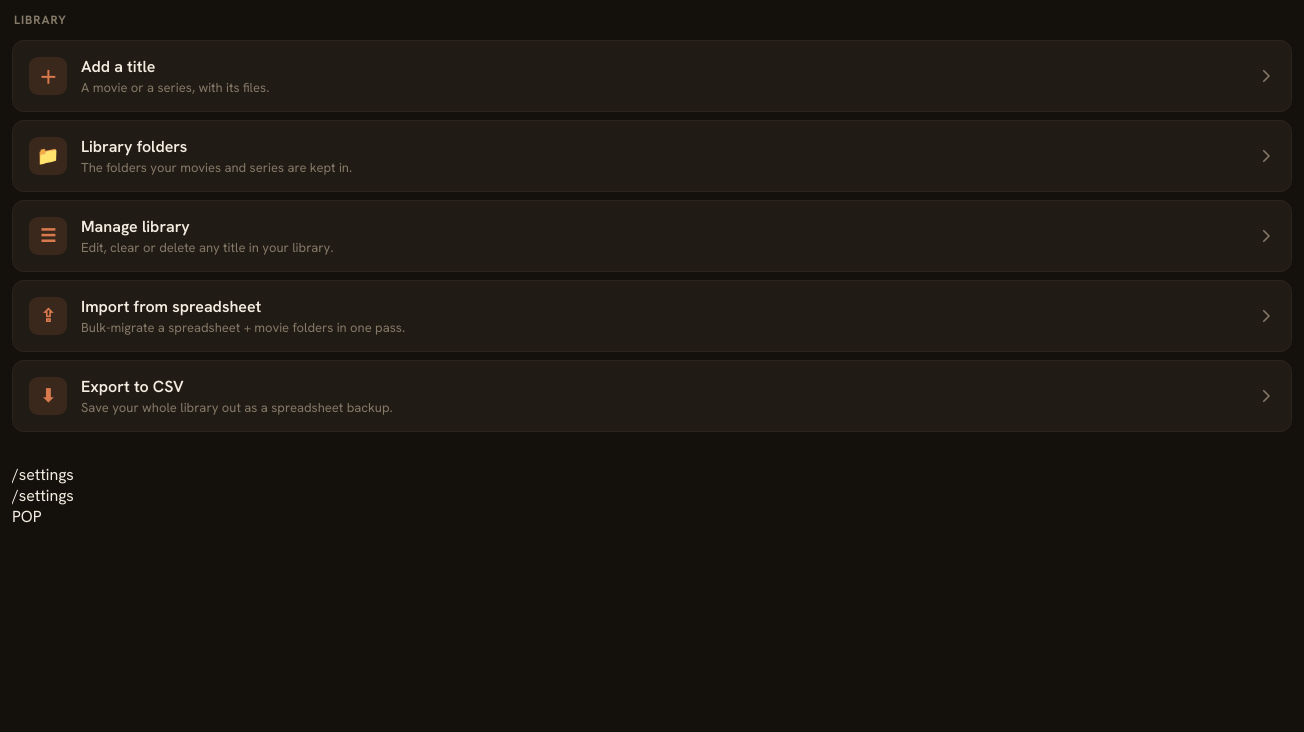
Test: LibrarySection › pushes the Library folders page from Library folders
This screenshot has width=1304, height=732.
Click the button "Library folders". click: (48,156)
box: [12, 120, 1292, 192]
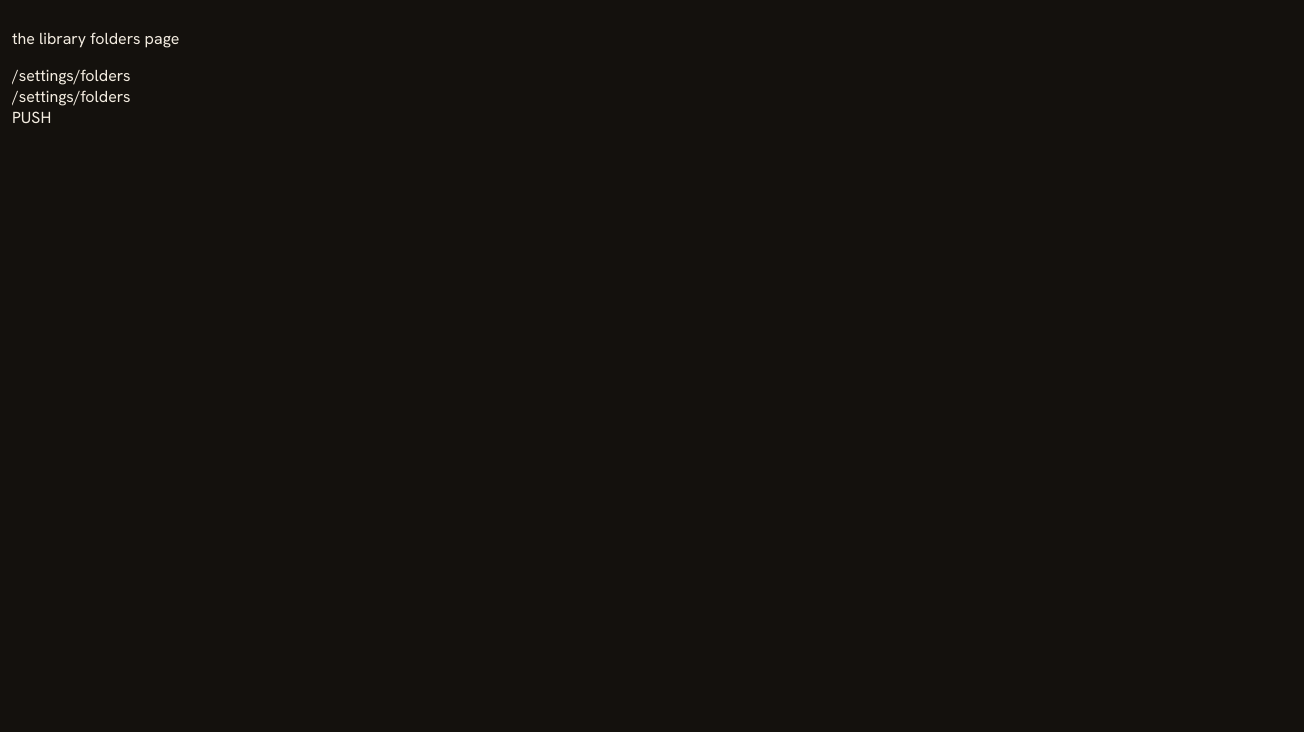
Check: the text with test id "pathname" reads "/settings/folders", box [12, 65, 131, 86]
Check: the text "the library folders page" is shown, box [12, 28, 179, 49]
